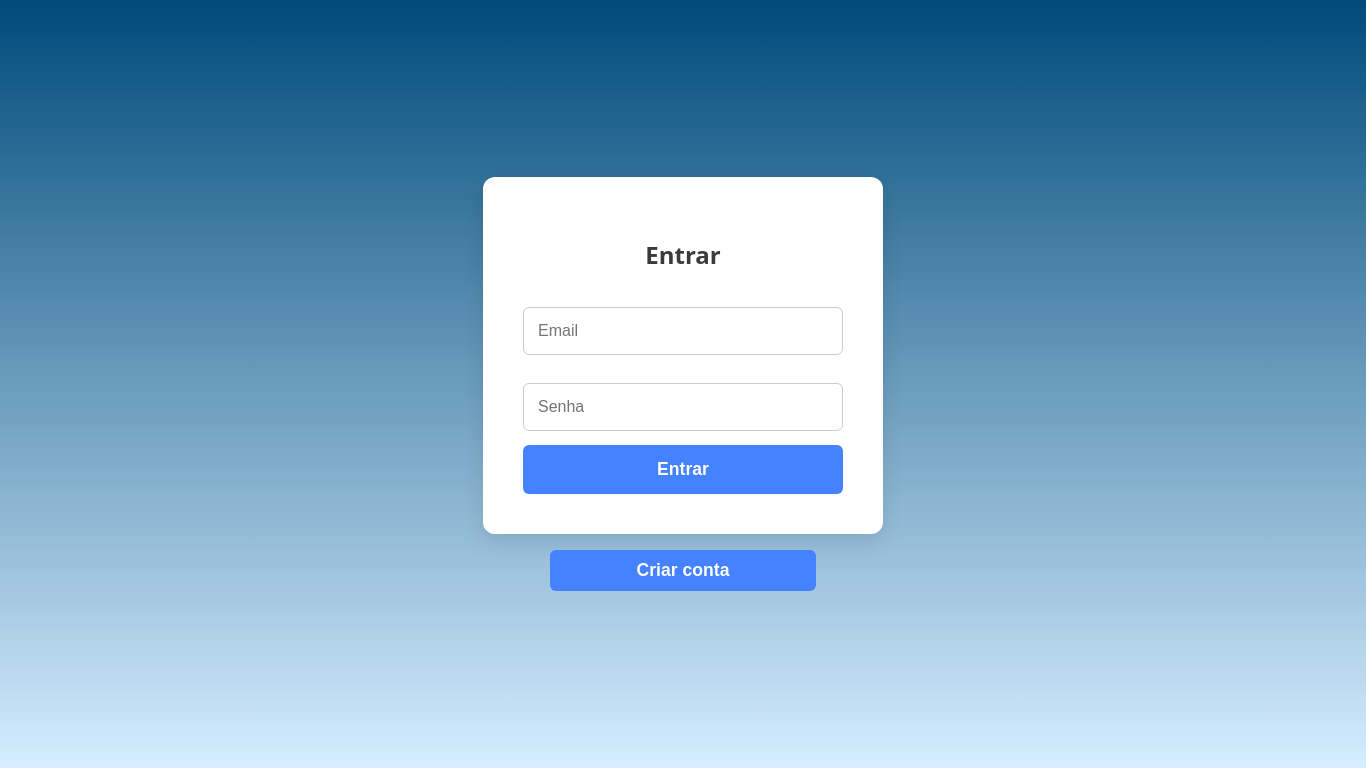
Scenario: LoginPage Component › displays error message on failed login
Type "test@example.com" into the field with placeholder "Email" at coordinates (683, 331), box [523,307,843,355]
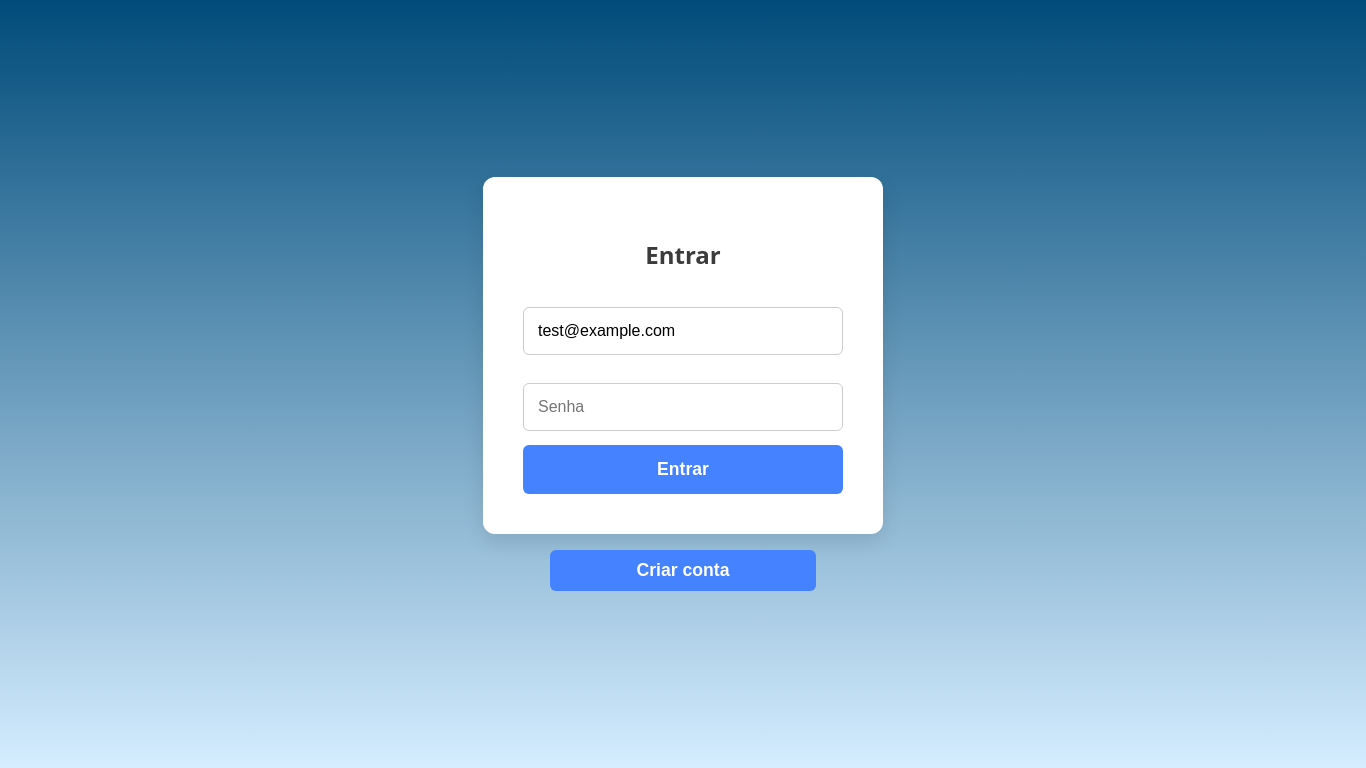
Type "wrongpassword" into the password field with placeholder "Senha" at coordinates (683, 407), box [523,383,843,431]
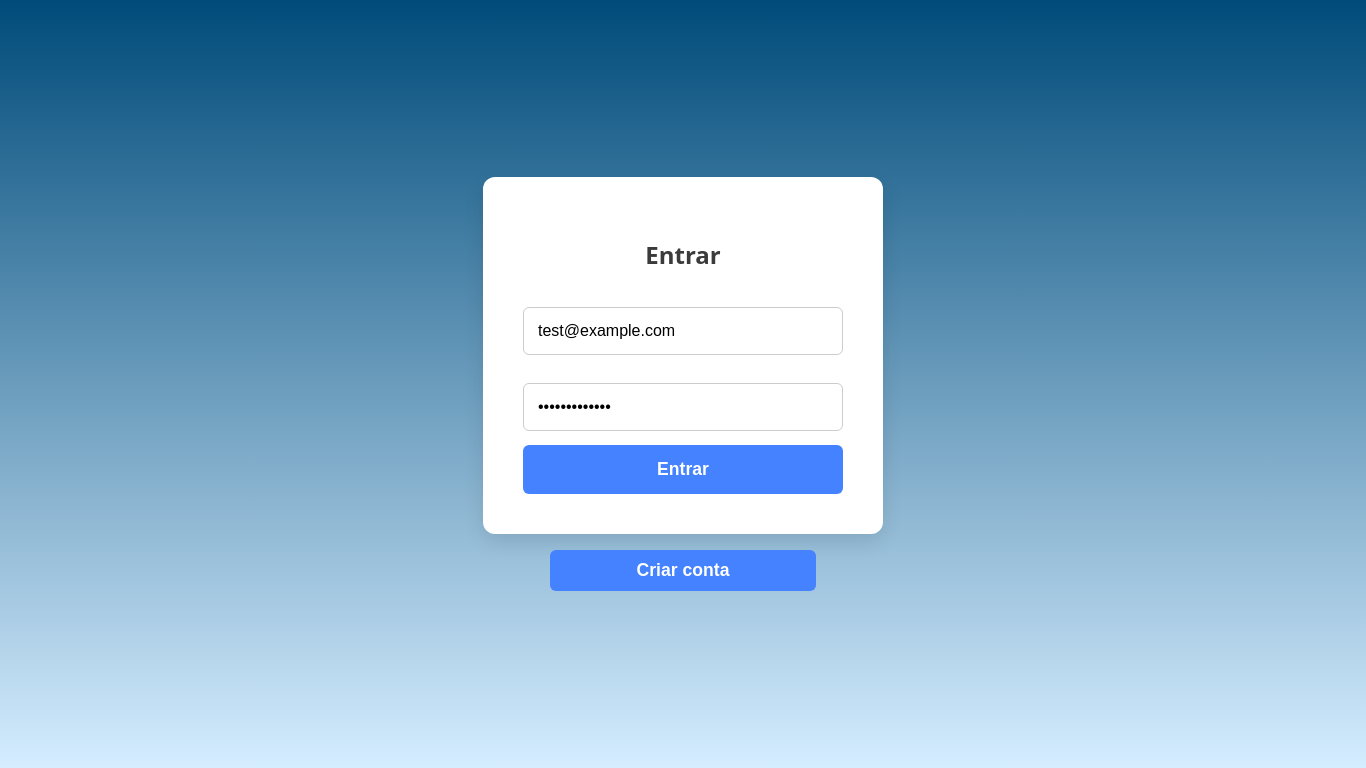
Click the button "Entrar" at coordinates (683, 469), box [523,445,843,494]
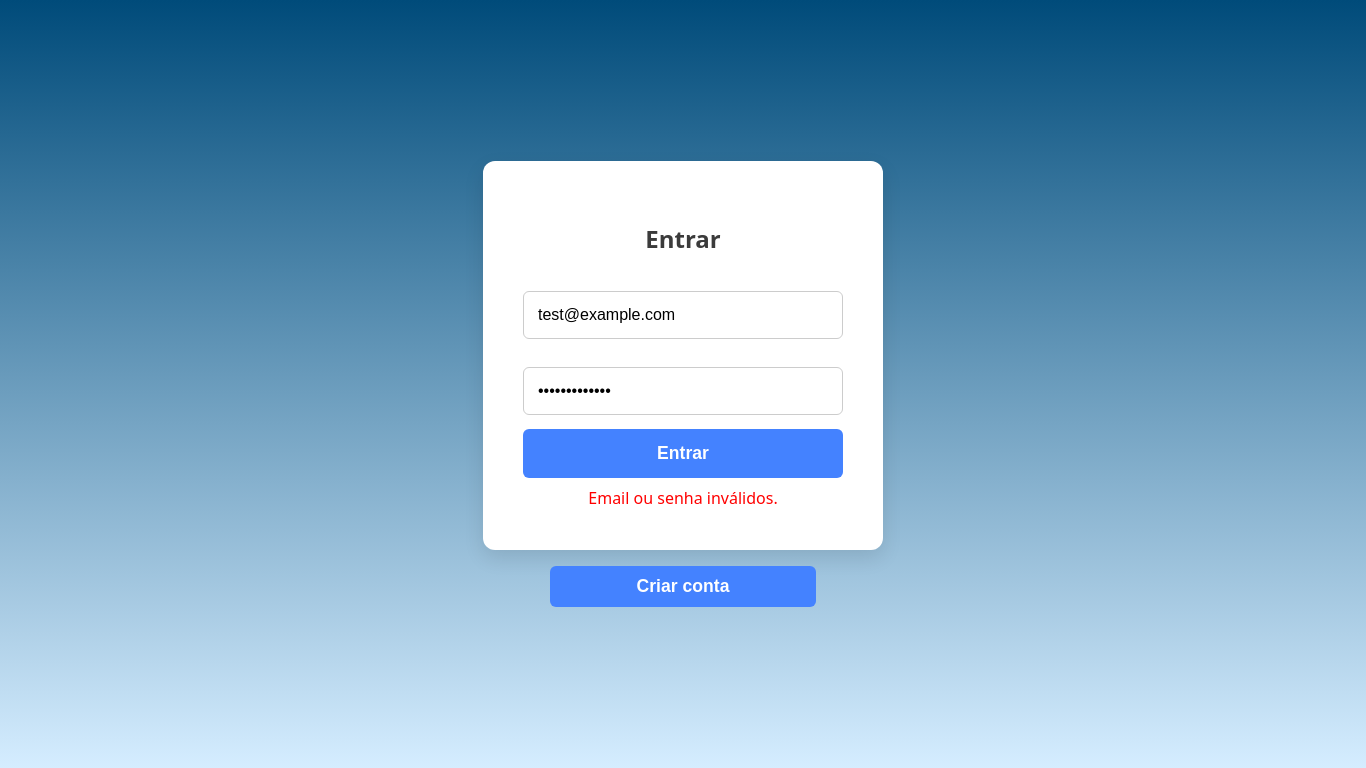
Check: the text "Email ou senha inválidos." is shown, box [588,487,778,509]
